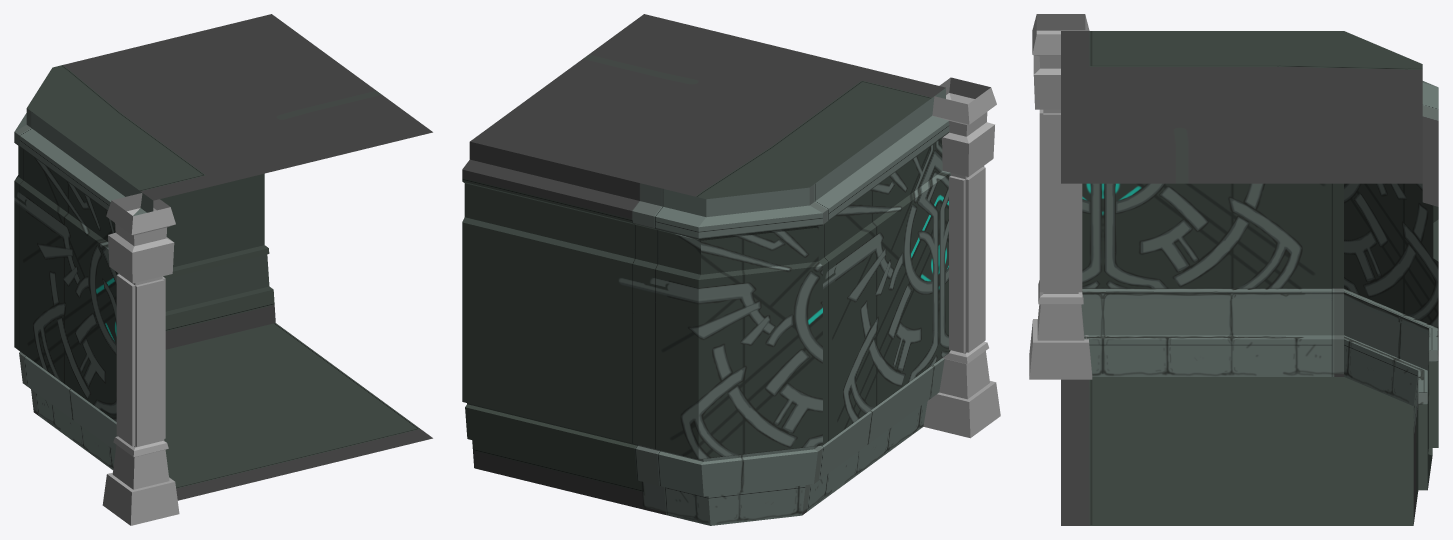
File: Right_Corridor.fbx
3 renders of one model, left to right at view 1: azimuth 30°, elevation 25°; view 2: azimuth 150°, elevation 25°; view 3: azimuth 270°, elevation 25°, orthographic. The views are drawn at different scales.
Parts seen in each view (by area): view 1: corridor, Pillar; view 2: corridor, Pillar; view 3: corridor, Pillar.
Part boxes in pixels (bbox=[...]): corridor: bbox=[14, 14, 432, 500]; Pillar: bbox=[102, 193, 179, 525]; corridor: bbox=[462, 14, 950, 525]; Pillar: bbox=[923, 77, 1000, 438]; corridor: bbox=[1061, 31, 1438, 525]; Pillar: bbox=[1029, 14, 1092, 379].
Size of the model in its own units: 325 by 300 by 325.
Materials: 2 (1 with a texture image).
